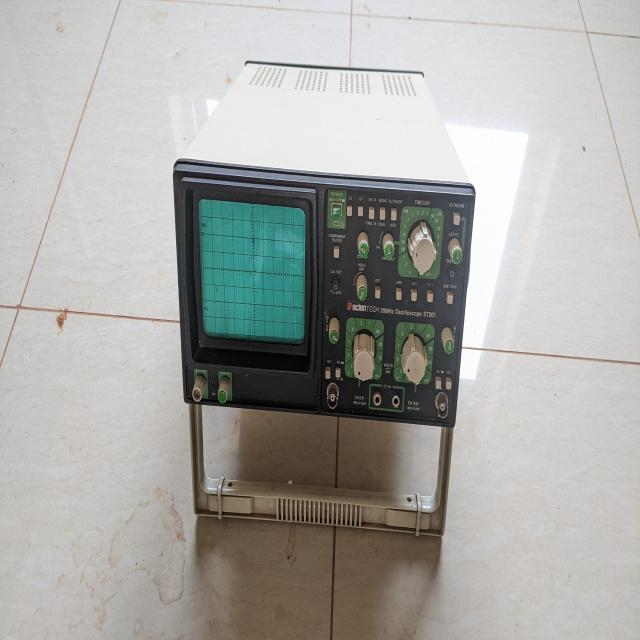Cathode Ray Oscilloscope: (160, 151, 480, 573)
